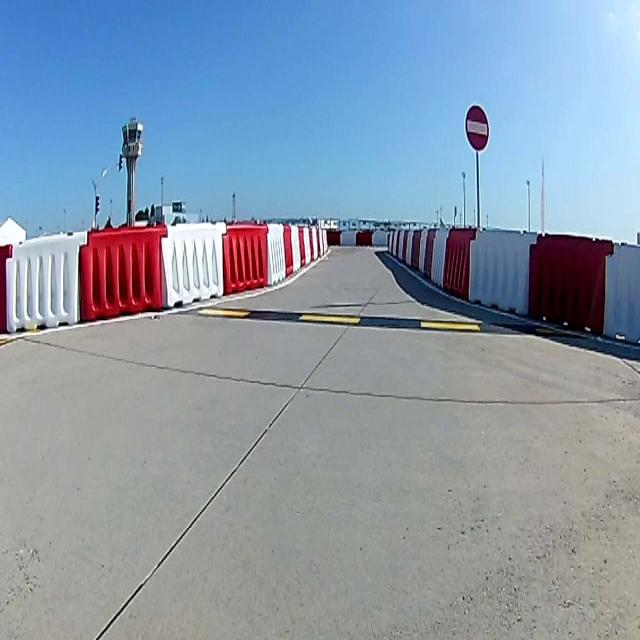girisyok: (465, 102, 490, 150)
